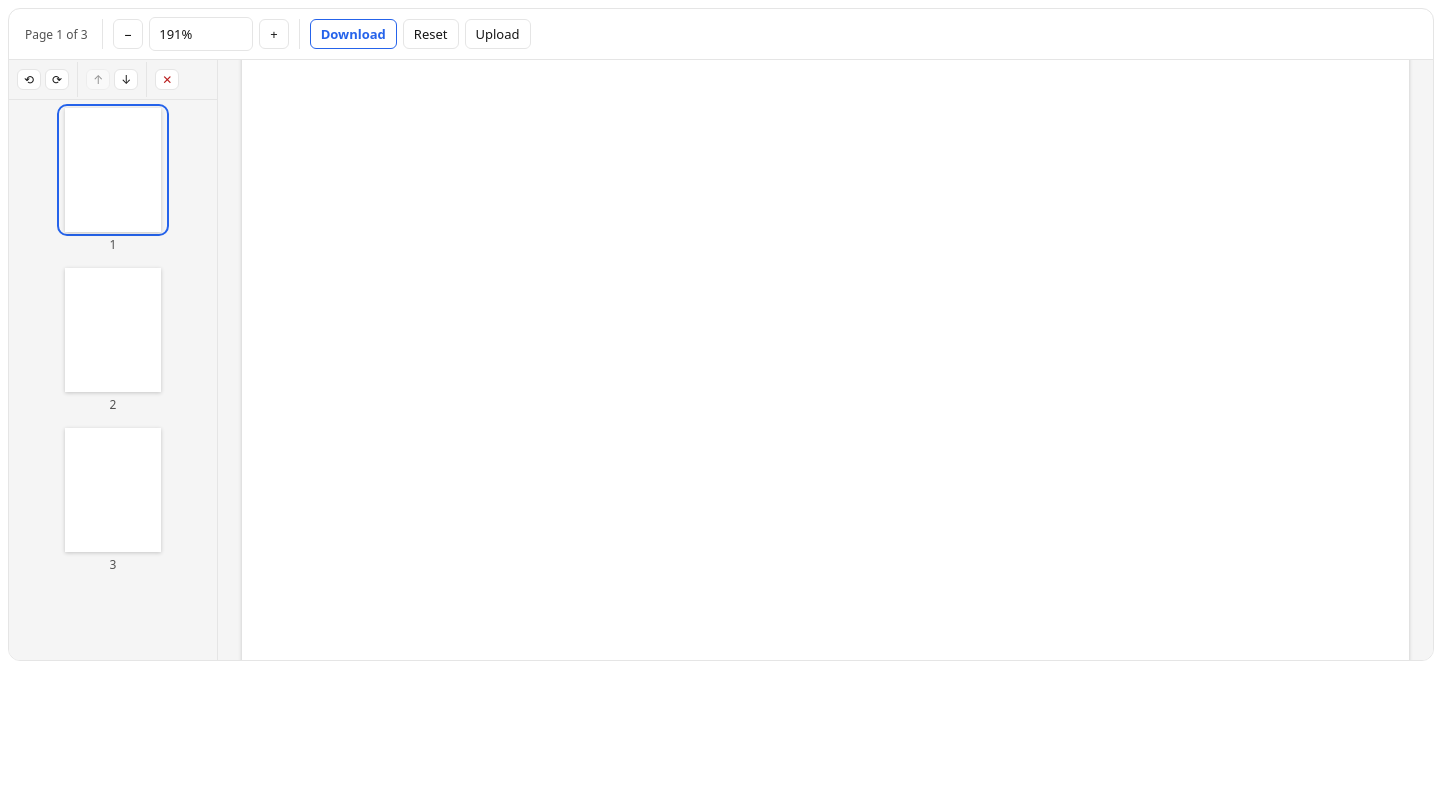
Test: PdfEditor › resets every edit back to the original document
(page scrolled)
Expected: the text "Page 1 of 3" is shown, left=21, top=26, right=92, bottom=42
Click the option named "Page 2": coordinates (113, 340) left=65, top=268, right=161, bottom=413
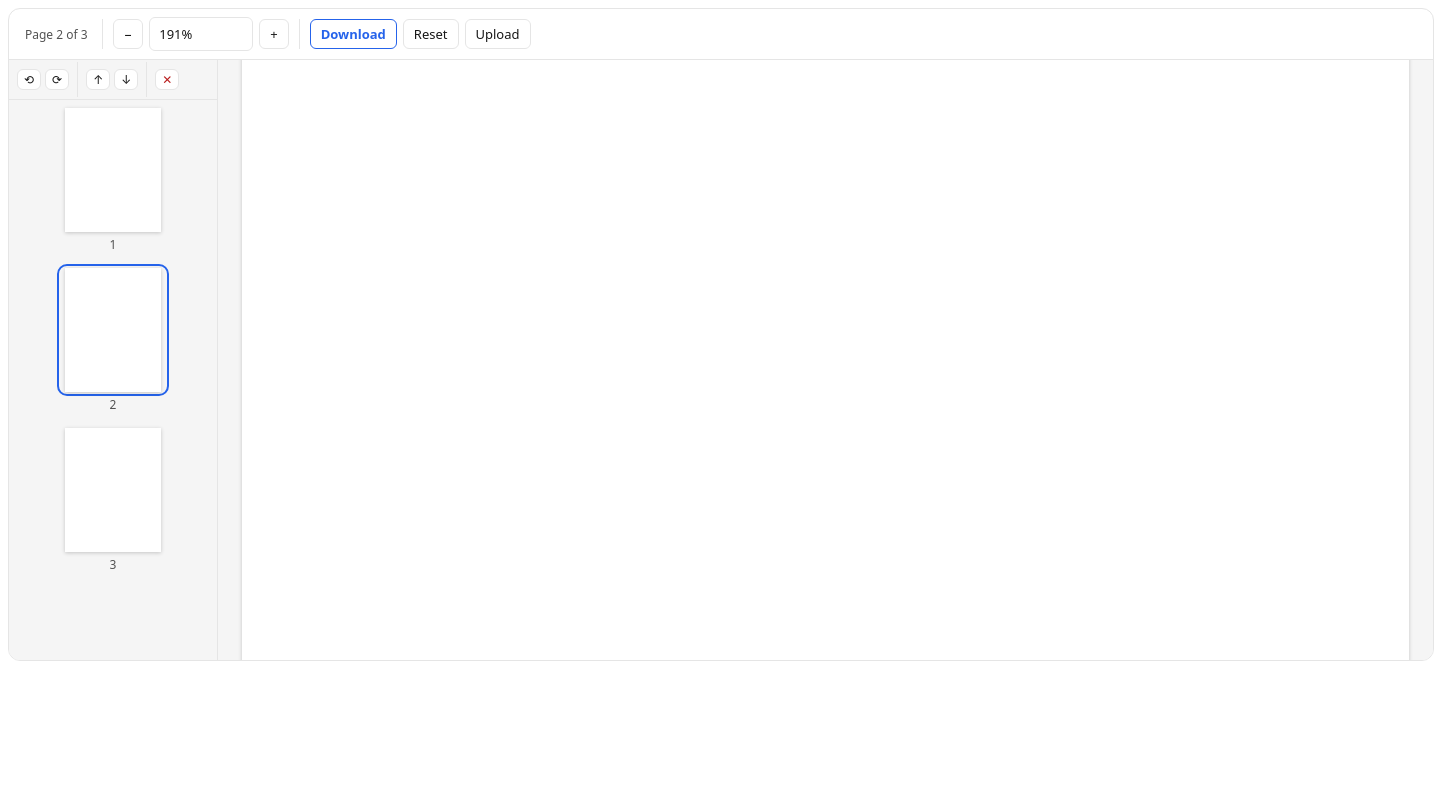
Click the button named "Delete pages": coordinates (167, 80) left=155, top=69, right=179, bottom=90
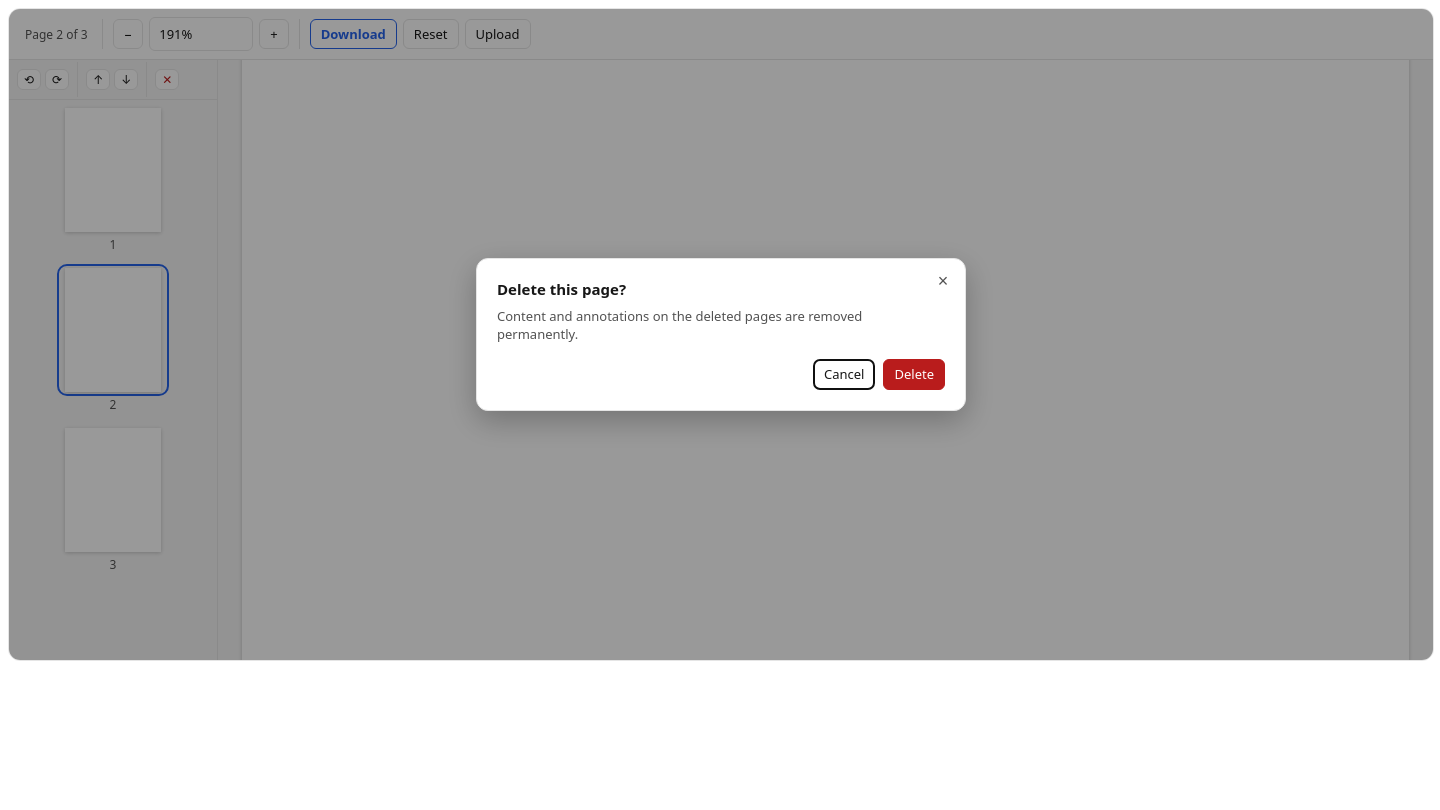
Click the button "Delete": coordinates (914, 375) left=884, top=359, right=945, bottom=390
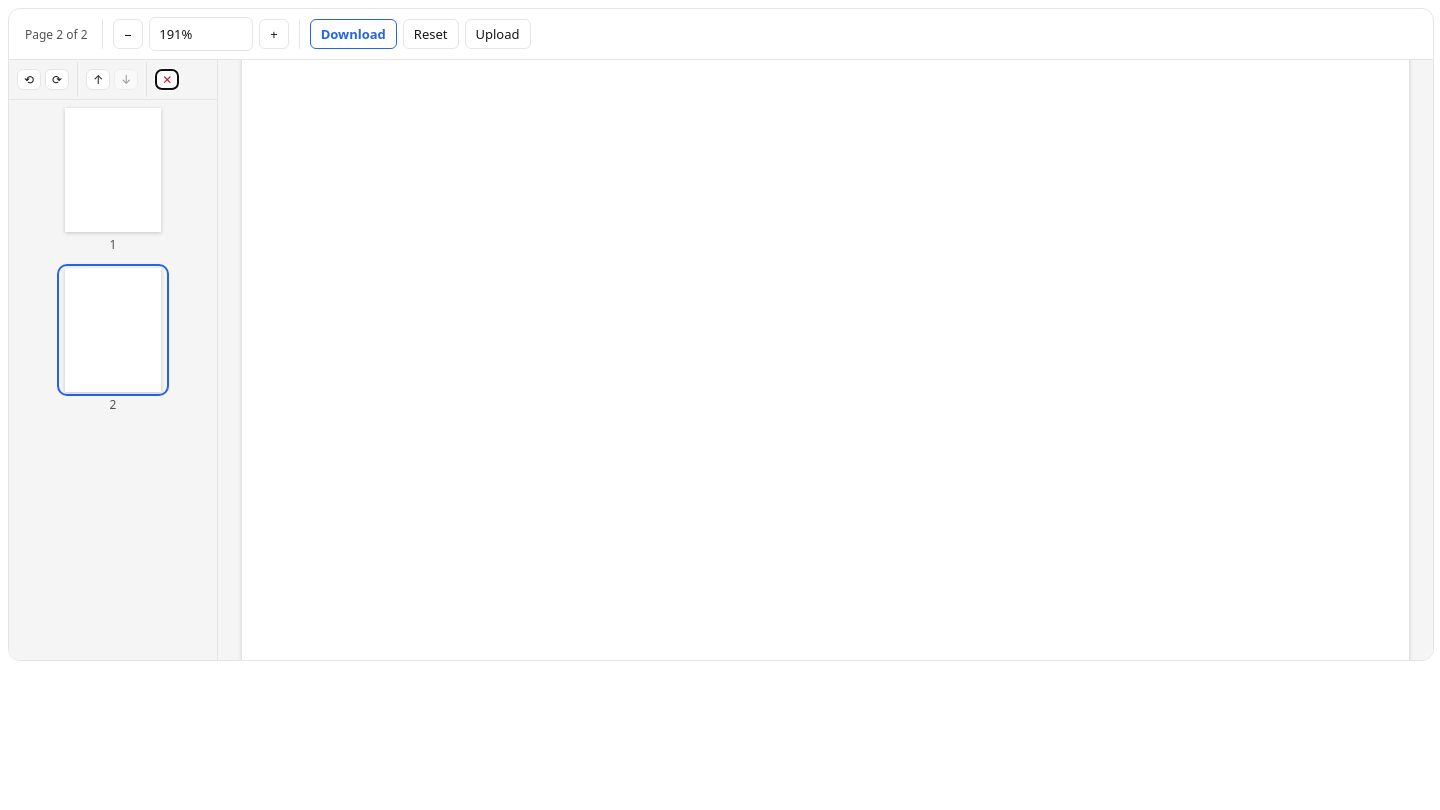
Click the option named "Page 1": coordinates (113, 180) left=65, top=108, right=161, bottom=253
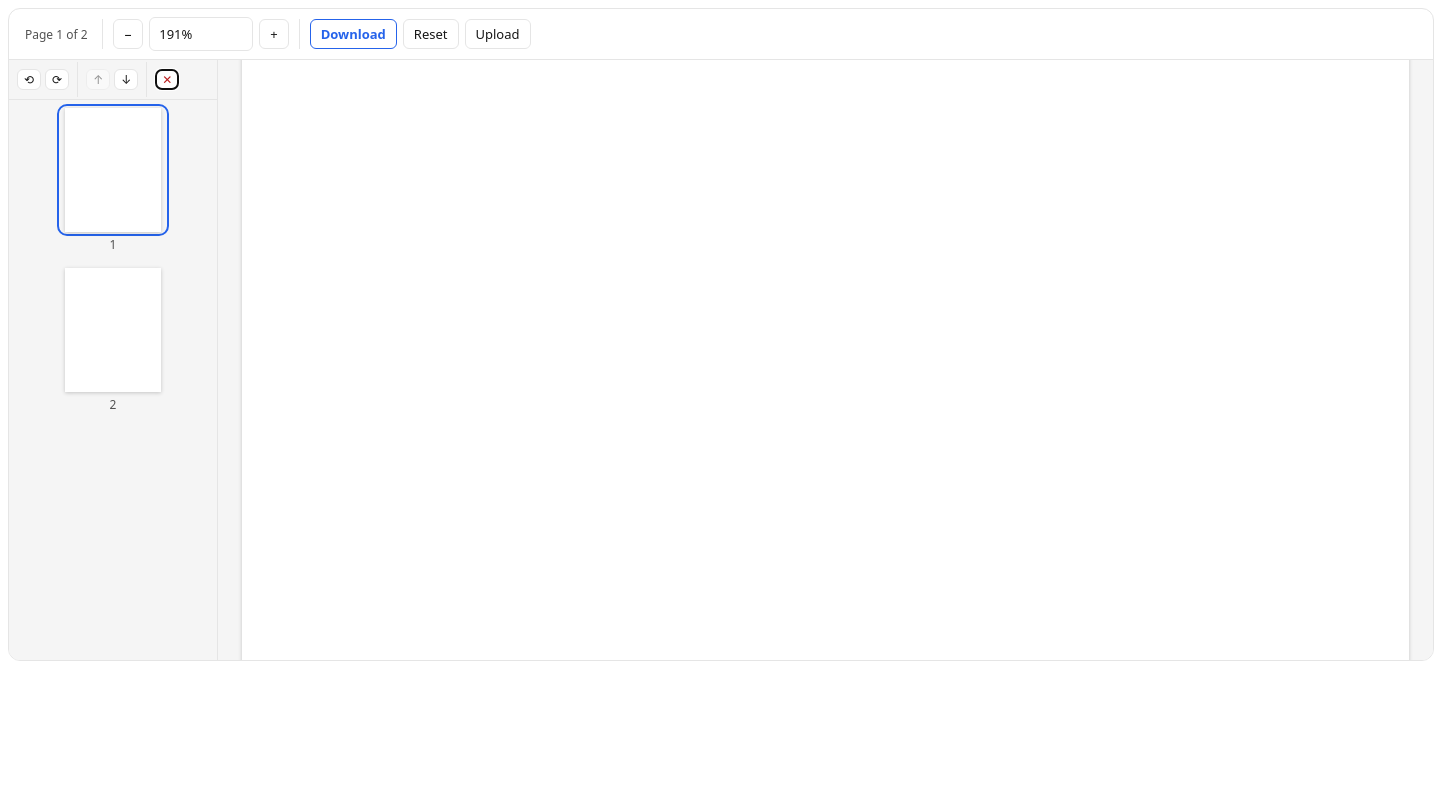
Click the button named "Rotate right": coordinates (57, 80) left=45, top=69, right=69, bottom=90
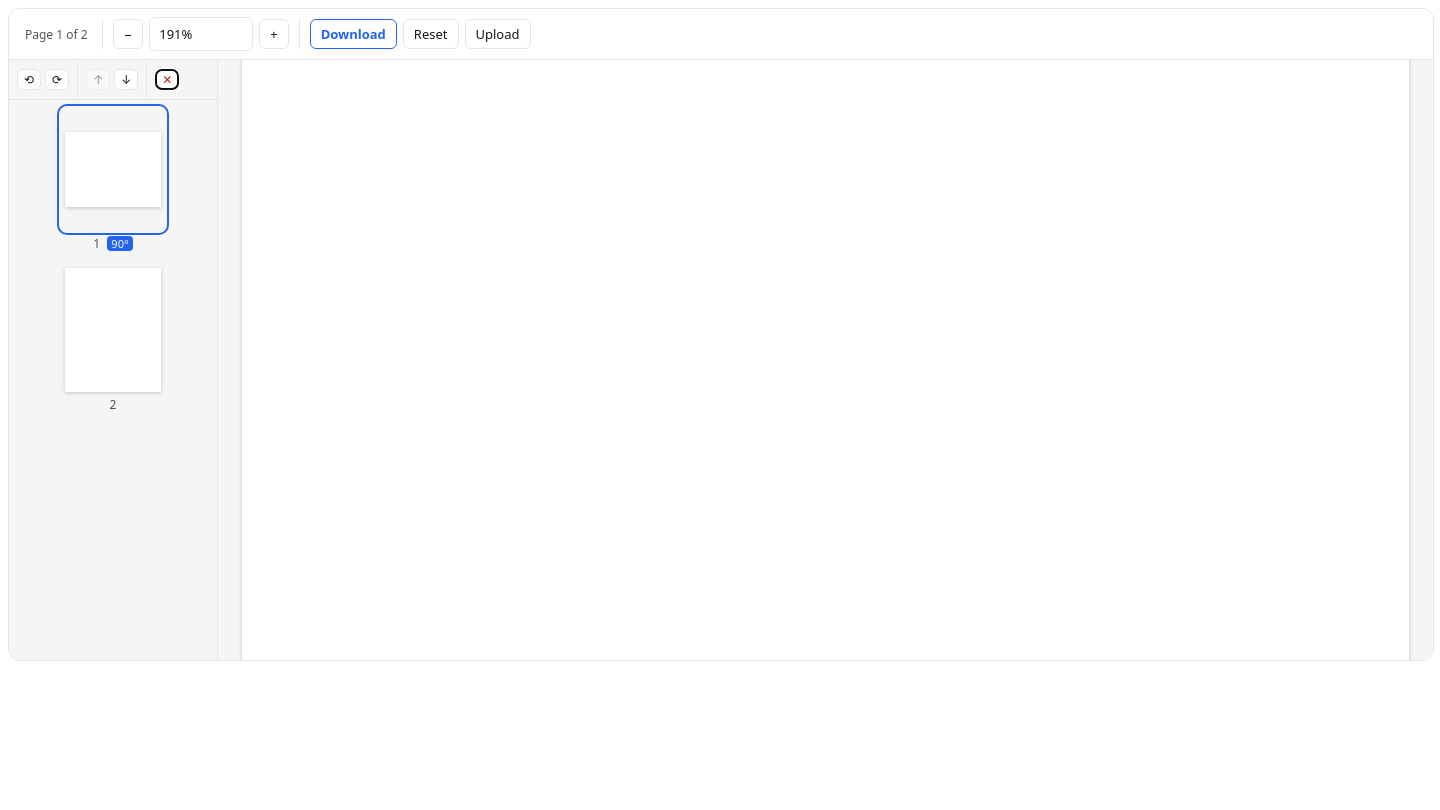
Click the button with aria-label "Reset edits": coordinates (431, 34) left=403, top=19, right=458, bottom=49
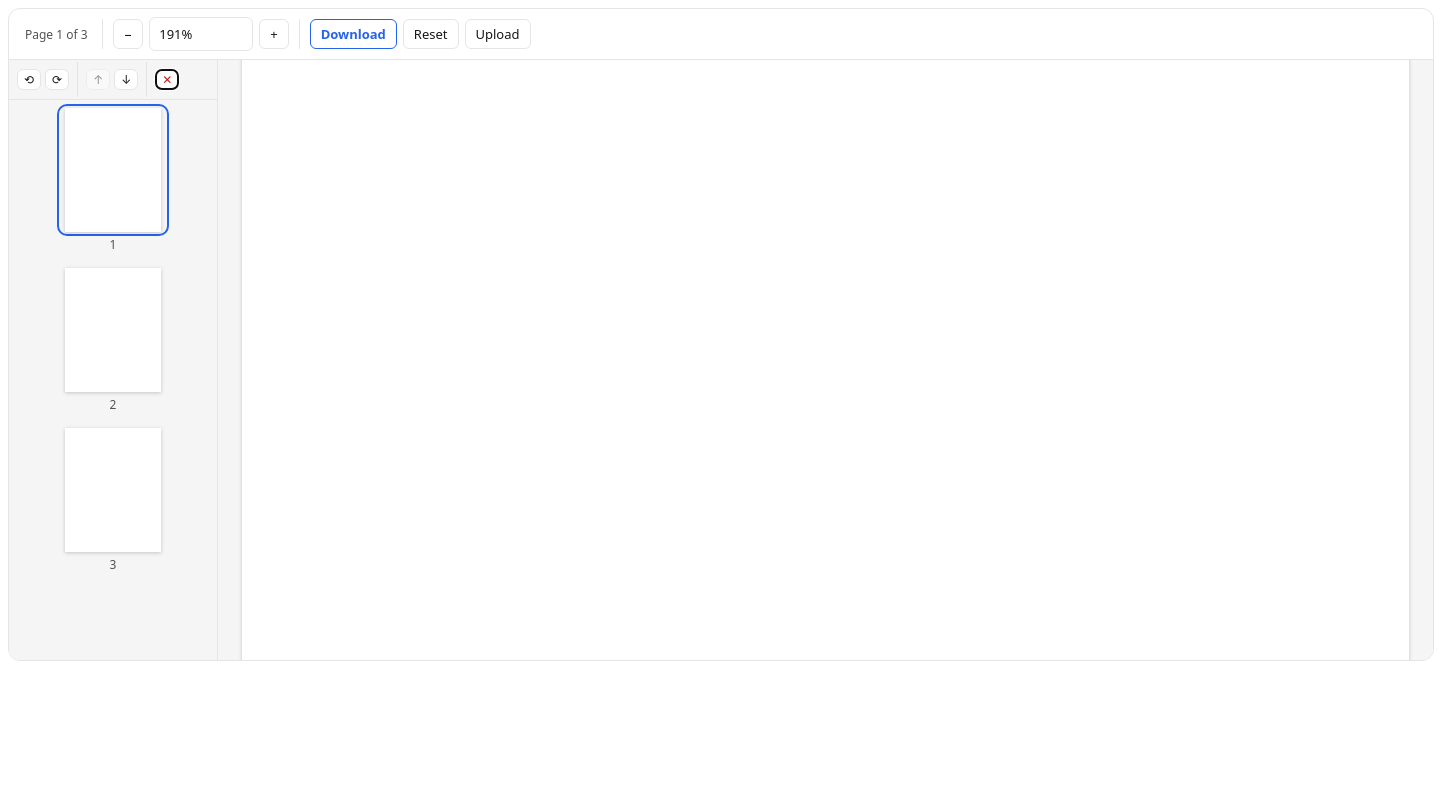
Expected: the text with test id "pdf-editor-page-indicator" reads "Page 1 of 3", left=25, top=26, right=88, bottom=42
